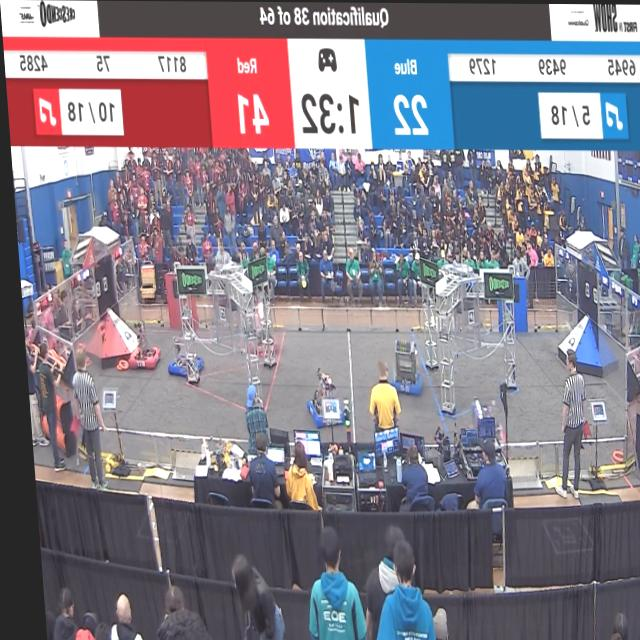Robot: (296, 364, 336, 431), (380, 329, 417, 398), (461, 392, 498, 448), (125, 316, 160, 375), (160, 334, 200, 385), (242, 312, 277, 353)
